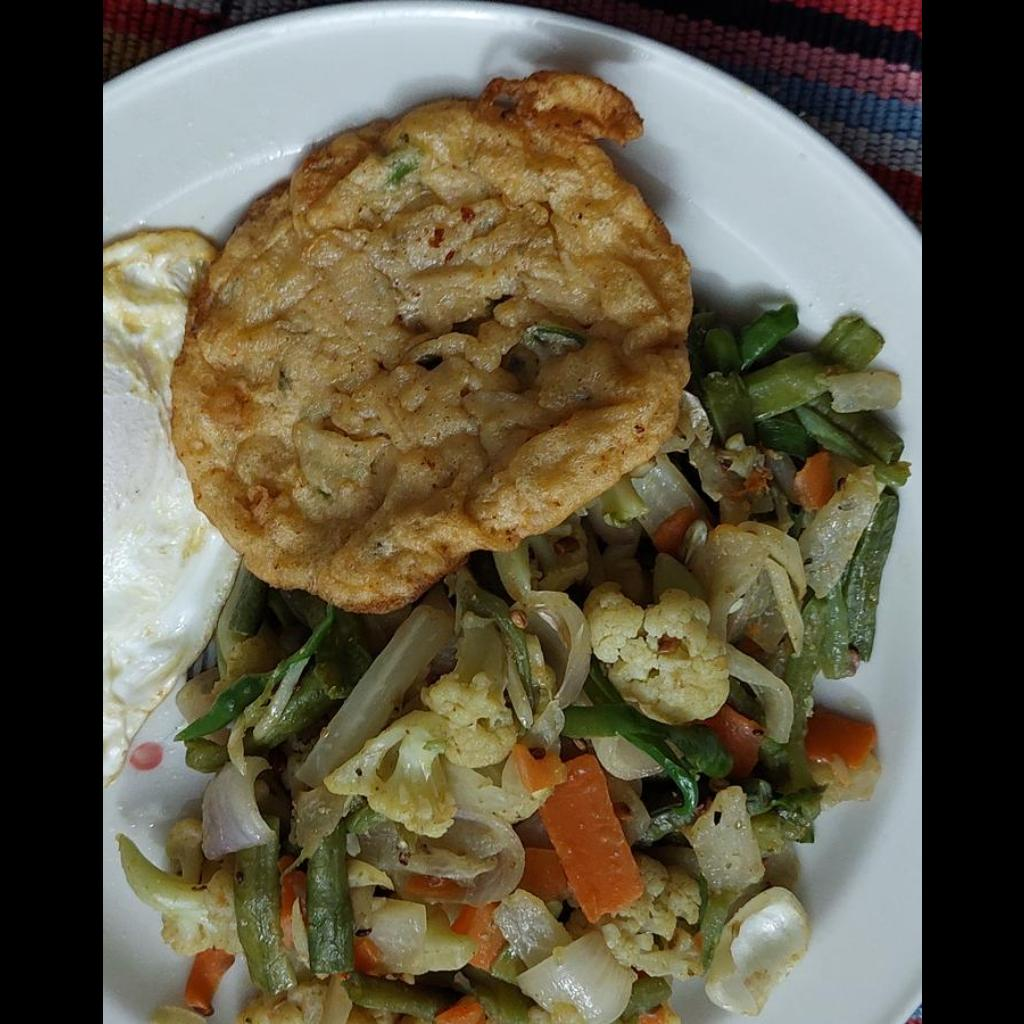egg-poached: (173, 73, 682, 609), (102, 229, 235, 792)
vegetable: (120, 313, 901, 1023)
